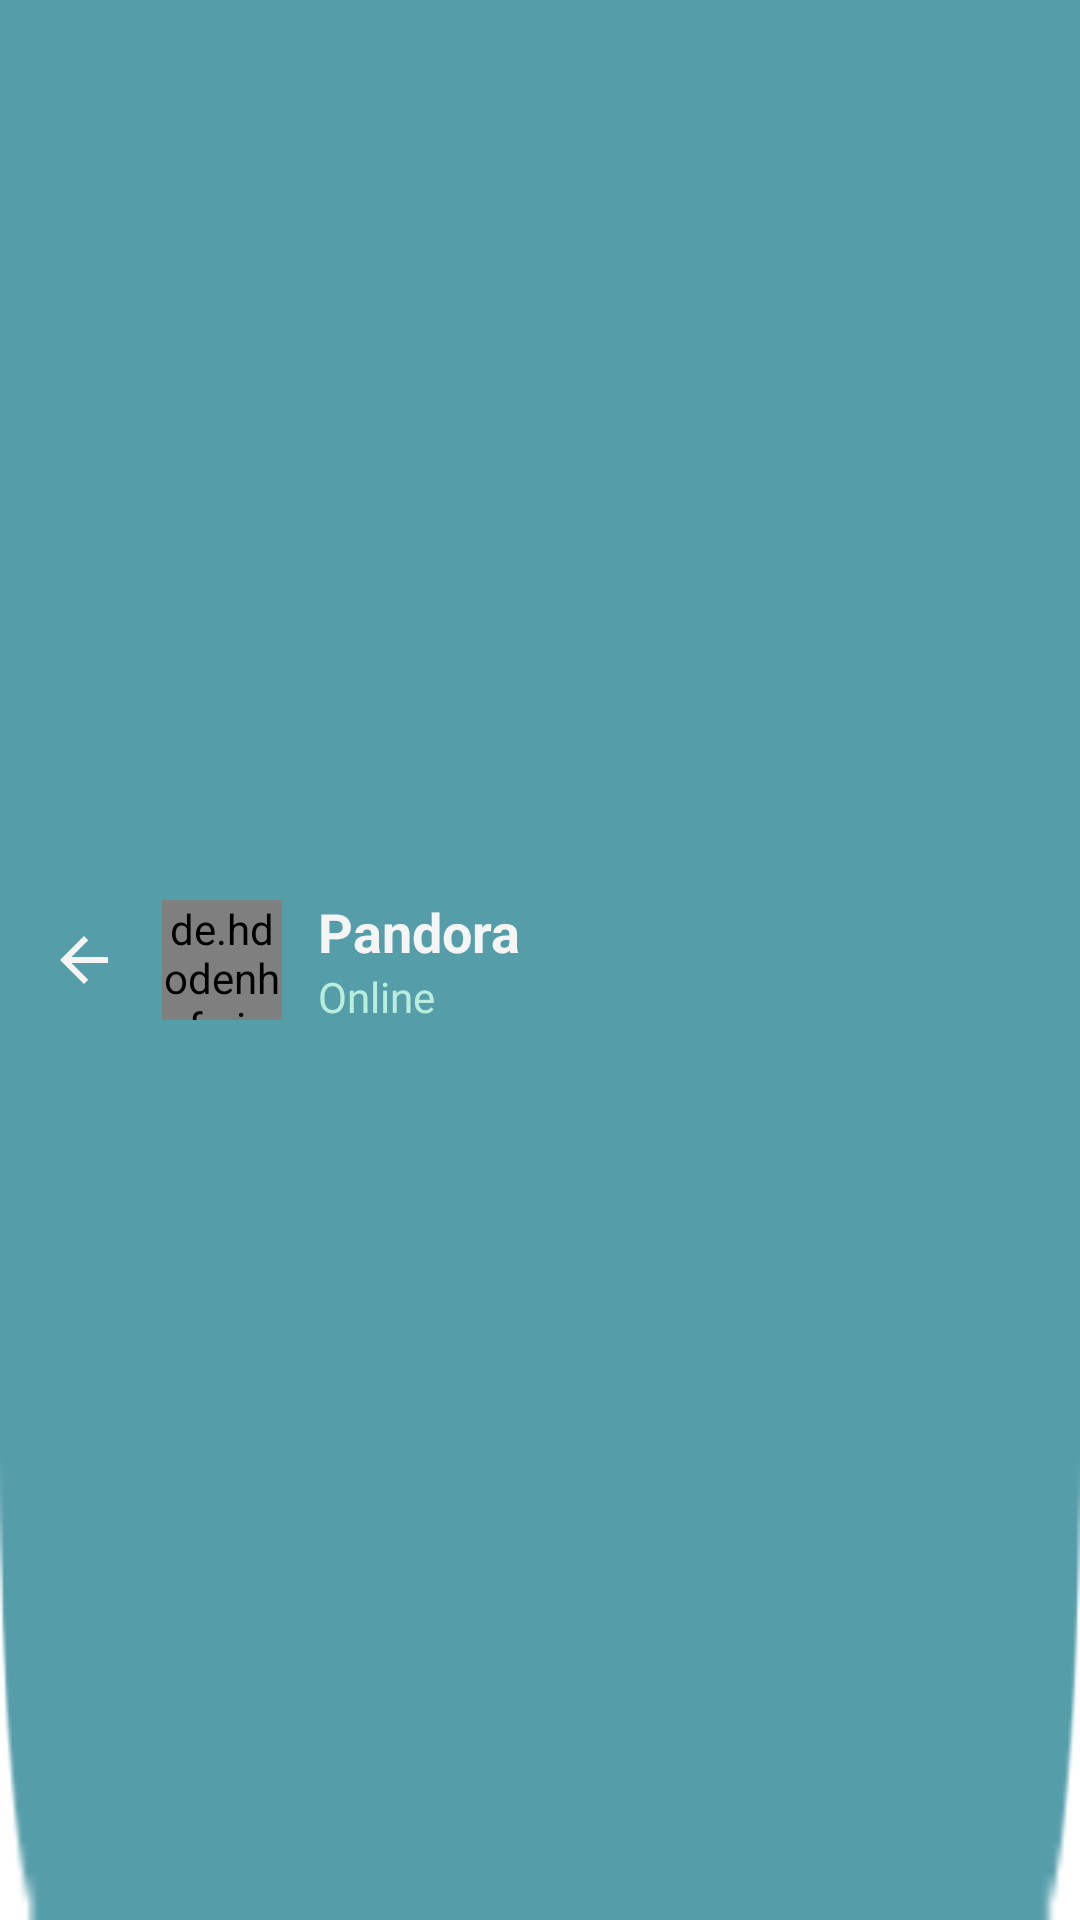

Named icons in this screenshot (1080w x 1920h) and their bounding boxes, (x1, y1, x2, y2):
arrow back: (60, 936, 108, 984)
